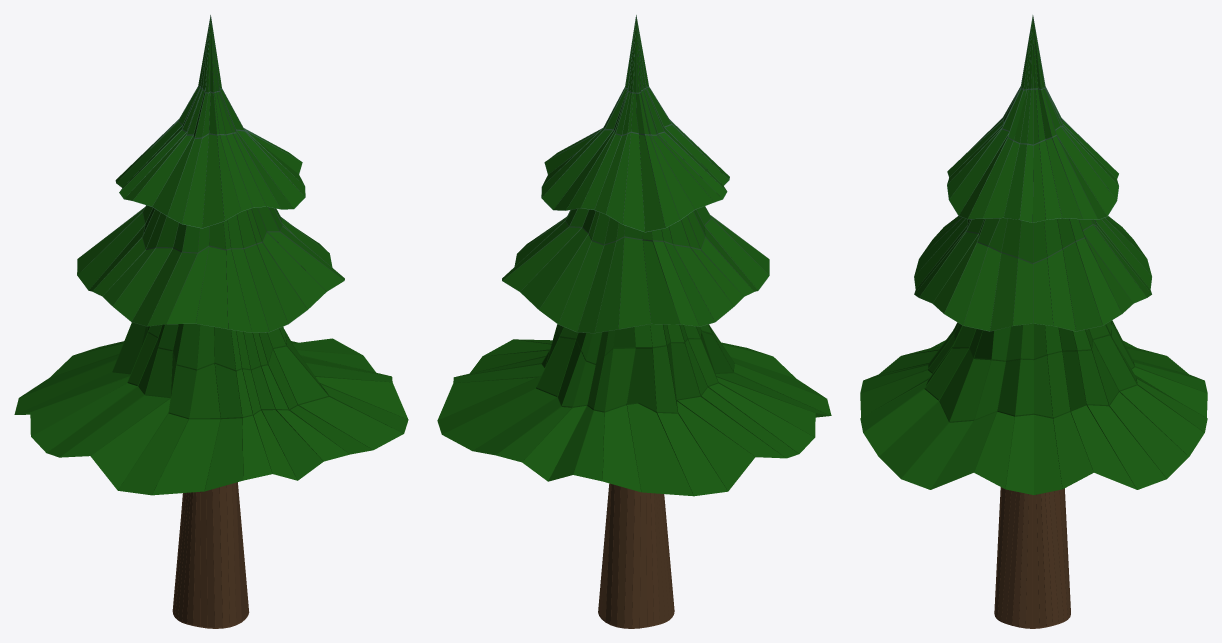
Rendered from tree2dino.fbx.
3 views of the same model, side by side, from view 1: azimuth 30°, elevation 25°; view 2: azimuth 150°, elevation 25°; view 3: azimuth 270°, elevation 25° (orthographic).
Visible parts, largest first — view 1: Cylinder.001, Cylinder; view 2: Cylinder.001, Cylinder; view 3: Cylinder.001, Cylinder.
Part boxes in pixels (bbox=[...]): Cylinder.001: bbox=[15, 18, 408, 627]; Cylinder: bbox=[14, 15, 408, 628]; Cylinder.001: bbox=[438, 19, 830, 627]; Cylinder: bbox=[437, 15, 831, 628]; Cylinder.001: bbox=[860, 17, 1207, 627]; Cylinder: bbox=[860, 15, 1207, 628].
Size of the model in its own units: 267 by 296 by 509.
